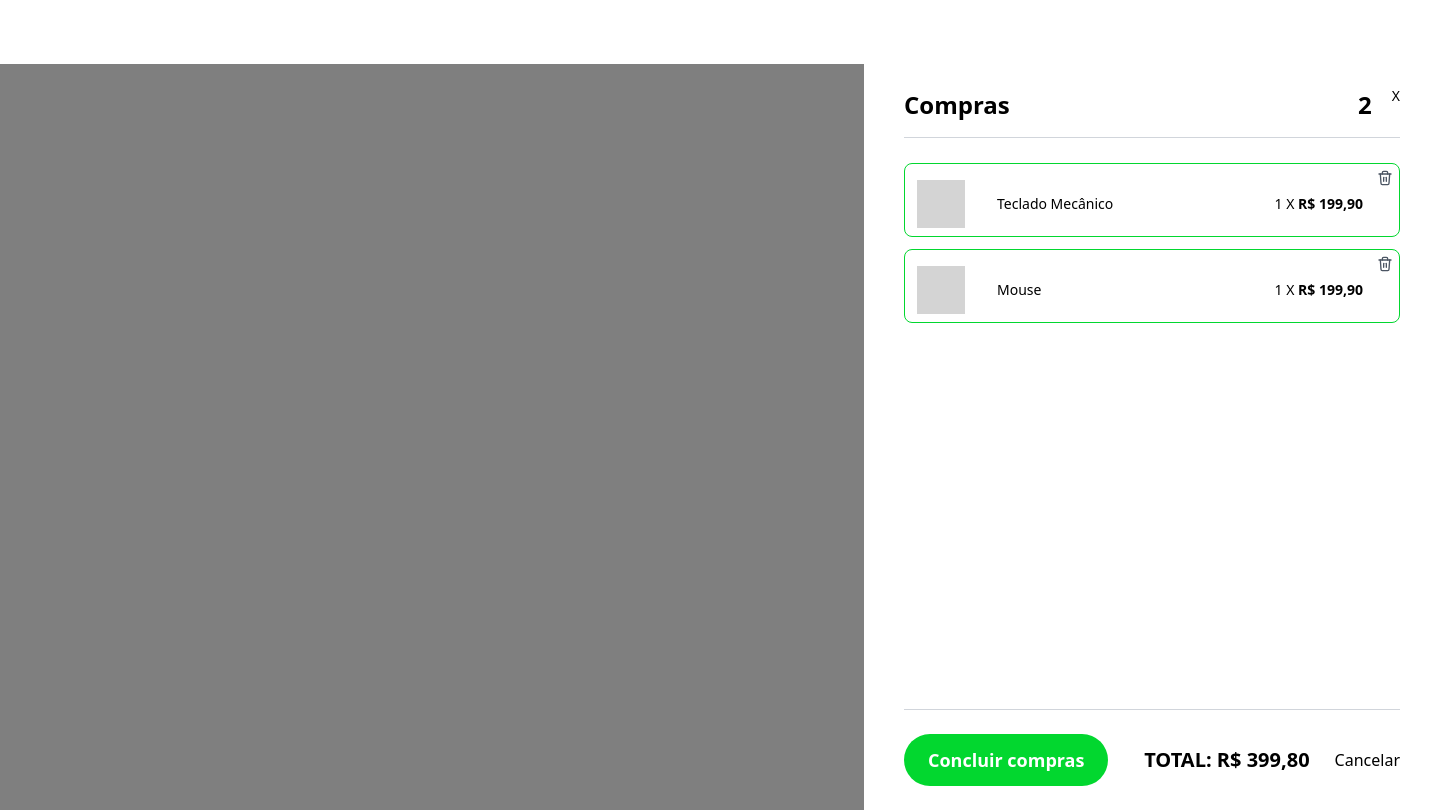
Scenario: CartModal › abre confirmação ao clicar na lixeira e remove item ao confirmar
The width and height of the screenshot is (1440, 810).
Click the button named "Remover Teclado Mecânico" at (1385, 178), box 1377,170 -> 1393,186
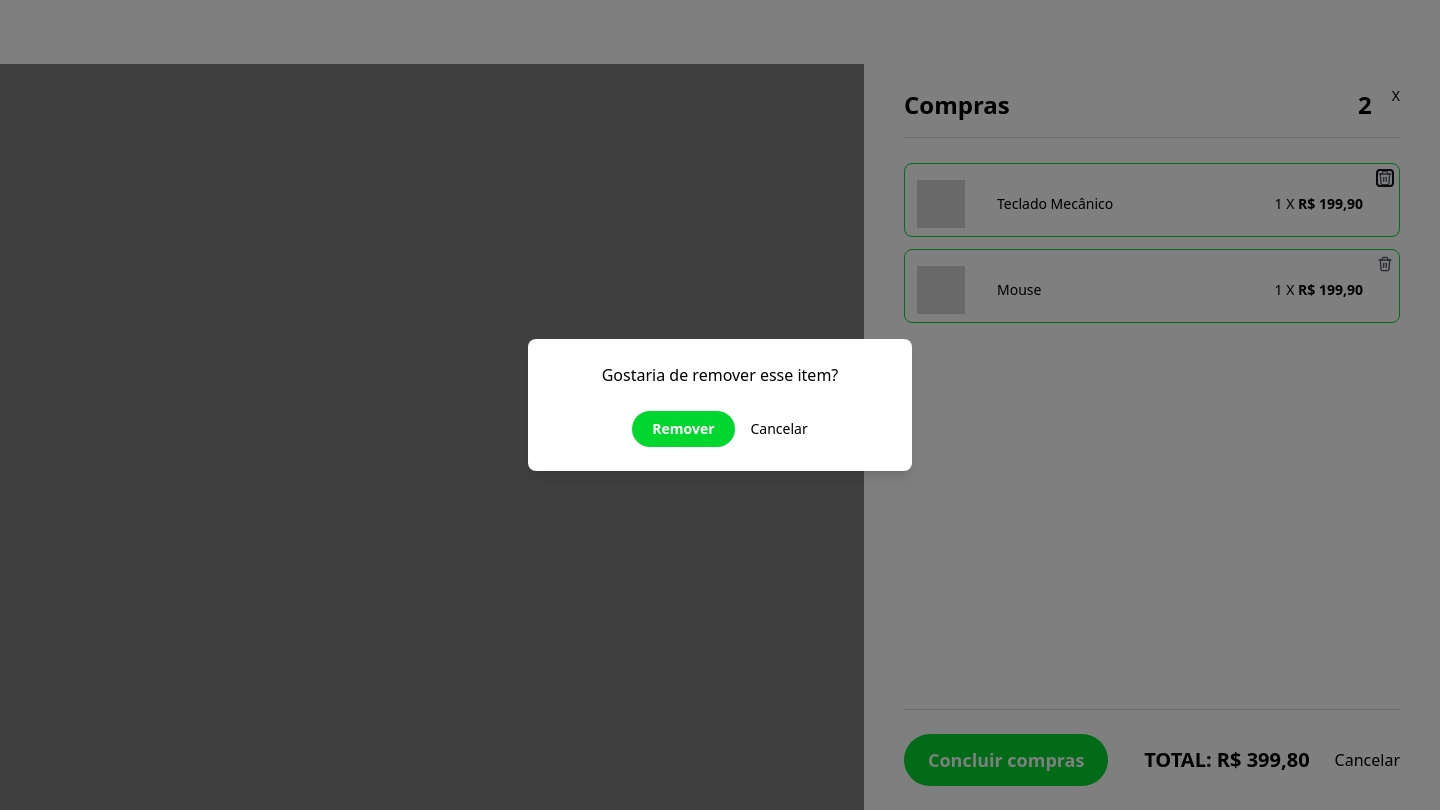
expect the dialog is shown: met, box 528,339 -> 912,471
expect the text "Gostaria de remover esse item?" is shown: met, box 602,364 -> 838,386
Click the button "Remover" at (683, 429), box 632,411 -> 735,447
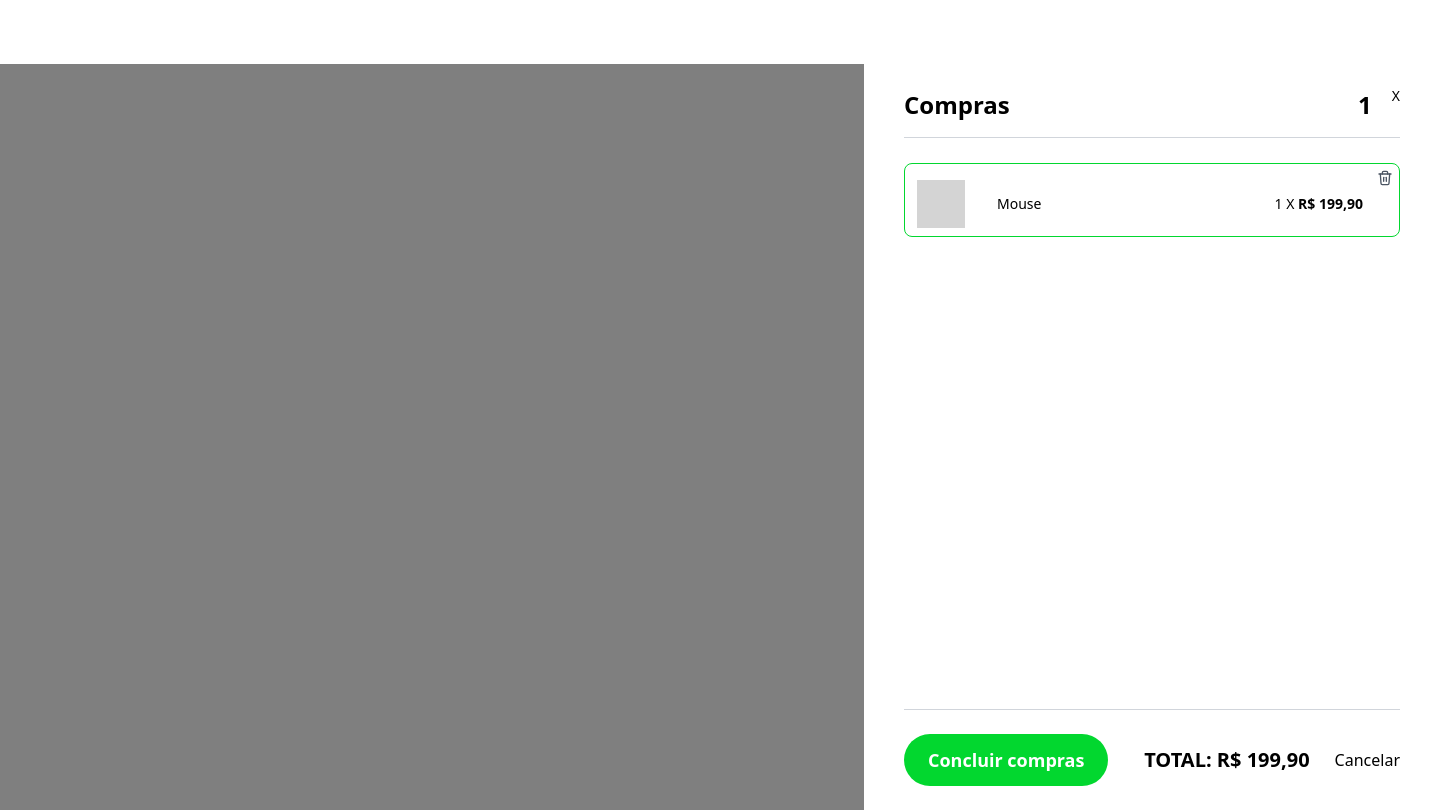
expect the text "Mouse" is shown: met, box 997,194 -> 1041,213
expect the dialog is gone: met
